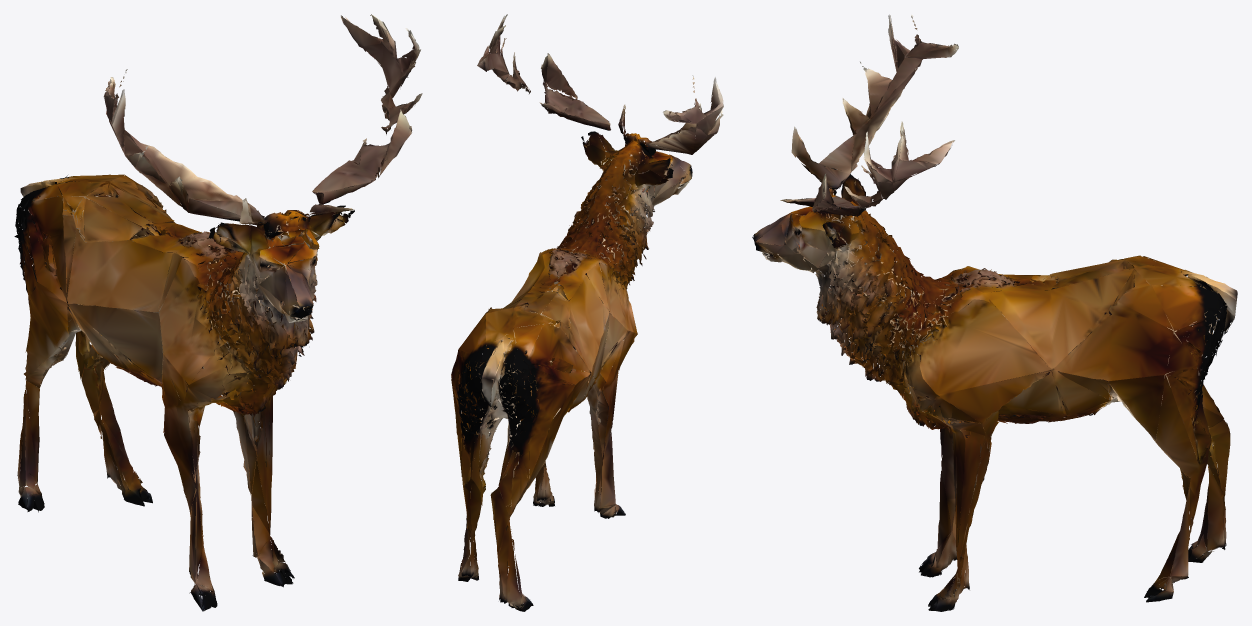
File: erased_deer.glb
3 views of the same model, side by side, from view 1: azimuth 30°, elevation 25°; view 2: azimuth 150°, elevation 25°; view 3: azimuth 270°, elevation 25° (orthographic). The views are drawn at different scales.
Parts seen in each view (by area): view 1: erased_deer_body; view 2: erased_deer_body; view 3: erased_deer_body.
Boxes of the visible parts, x1,y1,x2,y2 form: erased_deer_body: (14, 14, 422, 611); erased_deer_body: (451, 14, 723, 611); erased_deer_body: (752, 14, 1237, 611).
Size of the model in its own units: 1.15 by 2.1 by 1.78.
1 material, 1 textured.
